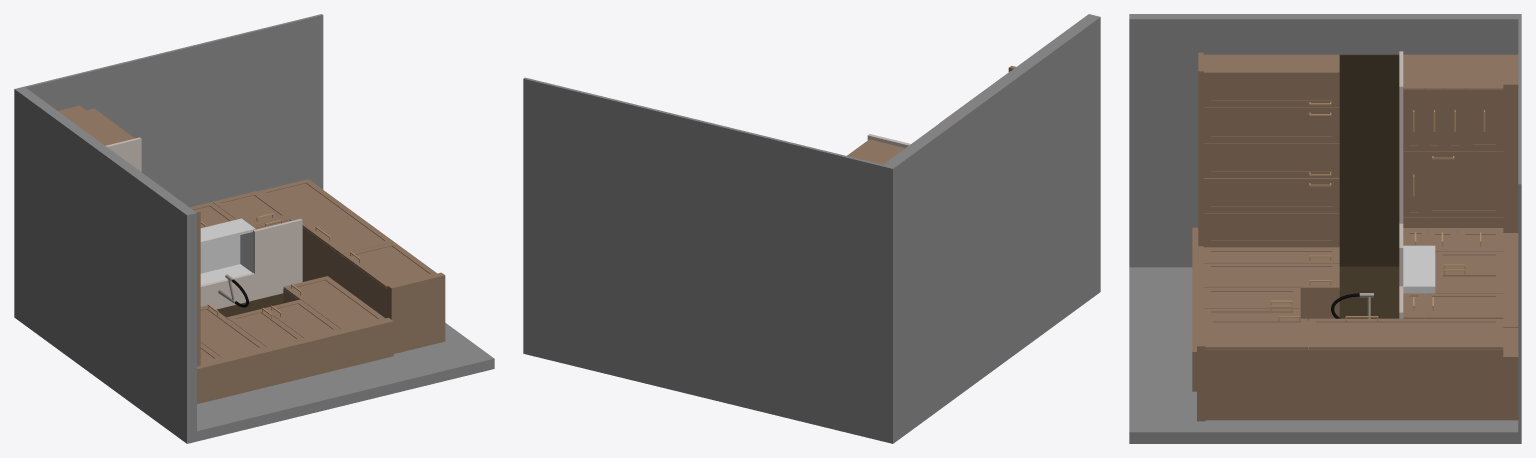
Rendered from kitchen_world.obj.
3 renders of one model, left to right at view 1: azimuth 30°, elevation 25°; view 2: azimuth 150°, elevation 25°; view 3: azimuth 270°, elevation 25°, orthographic. The views are drawn at different scales.
Parts seen in each view (by area): view 1: reference/reference_wall_02, reference/reference_floor_01, reference/reference_wall_01, cabinets/trim_crown_01, countertops/countertop_slab_02, cabinets/door_09, cabinets/trim_cap_01, cabinets/tall_cabinet_01, fixtures/fixture_sink_01, cabinets/door_15, cabinets/door_10, cabinets/door_12 (+8 smaller); view 2: reference/reference_floor_01, reference/reference_wall_02, reference/reference_wall_01, cabinets/base_cabinet_02; view 3: reference/reference_wall_02, cabinets/tall_cabinet_01, reference/reference_wall_01, backsplash/backsplash_02, cabinets/door_09, cabinets/door_01, cabinets/door_06, cabinets/door_03, cabinets/door_05, cabinets/door_02, cabinets/door_04, cabinets/base_cabinet_02 (+30 smaller).
Part boxes in pixels (x1,y1,x2,y2): reference/reference_wall_02: [16, 87, 196, 433]; reference/reference_floor_01: [14, 14, 323, 318]; reference/reference_wall_01: [16, 308, 494, 443]; cabinets/trim_crown_01: [197, 317, 393, 403]; countertops/countertop_slab_02: [200, 218, 302, 309]; cabinets/door_09: [257, 179, 393, 255]; cabinets/trim_cap_01: [387, 272, 445, 353]; cabinets/tall_cabinet_01: [302, 227, 387, 318]; fixtures/fixture_sink_01: [200, 218, 255, 285]; cabinets/door_15: [283, 276, 384, 328]; cabinets/door_10: [342, 242, 436, 288]; cabinets/door_12: [200, 305, 266, 357]; reference/reference_floor_01: [523, 77, 894, 443]; reference/reference_wall_02: [883, 14, 1100, 429]; reference/reference_wall_01: [894, 280, 1100, 442]; cabinets/base_cabinet_02: [849, 140, 904, 164]; reference/reference_wall_02: [1129, 14, 1518, 267]; cabinets/tall_cabinet_01: [1205, 320, 1518, 420]; reference/reference_wall_01: [1129, 267, 1518, 443]; backsplash/backsplash_02: [1339, 54, 1399, 266]; cabinets/door_09: [1309, 318, 1503, 349]; cabinets/door_01: [1424, 150, 1503, 217]; cabinets/door_06: [1203, 71, 1339, 107]; cabinets/door_03: [1203, 178, 1339, 213]; cabinets/door_05: [1203, 107, 1339, 142]; cabinets/door_02: [1203, 213, 1339, 247]; cabinets/door_04: [1203, 143, 1339, 177]; cabinets/base_cabinet_02: [1403, 54, 1518, 149].
Size of the model in its own units: 3159 by 2245 by 3073.
